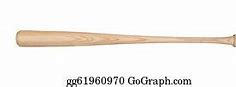bat: (15, 28, 236, 49)
